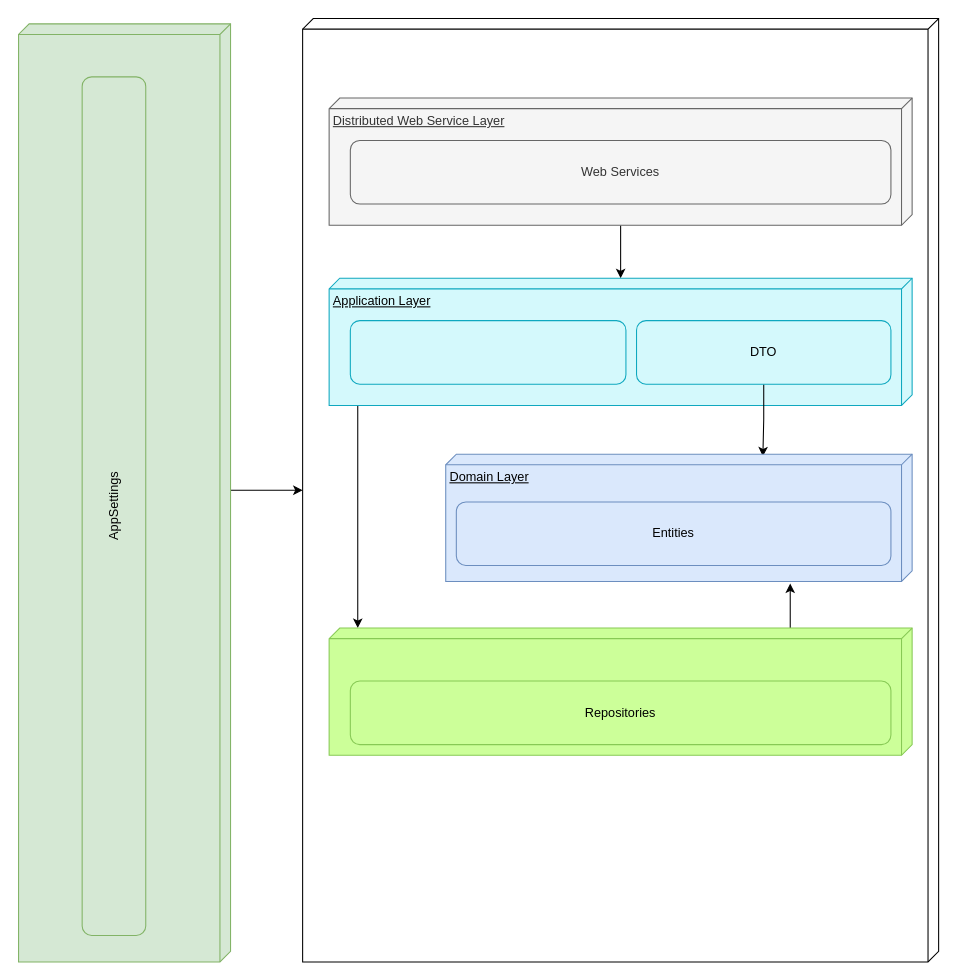
This 957x980 diagram has some shape labels left out. Here are the shapes that lost their labels. From the top down, the box of each, then its label:
(349, 320, 626, 384): Services
(17, 23, 231, 962): CrossCutting
(302, 17, 939, 962): Application server
(328, 627, 912, 755): Infrastructure Layer
